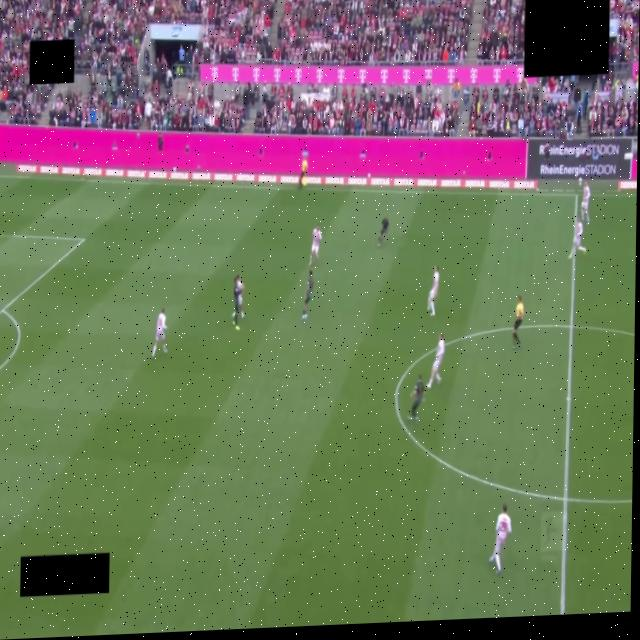player: (489, 504, 511, 572), (427, 334, 445, 388), (409, 374, 424, 421), (569, 219, 586, 259), (153, 309, 167, 357), (233, 275, 244, 330), (427, 266, 439, 316), (302, 270, 313, 320), (310, 225, 321, 265), (581, 182, 590, 224), (235, 276, 244, 318), (378, 217, 388, 246)
referee: (513, 296, 524, 348)
